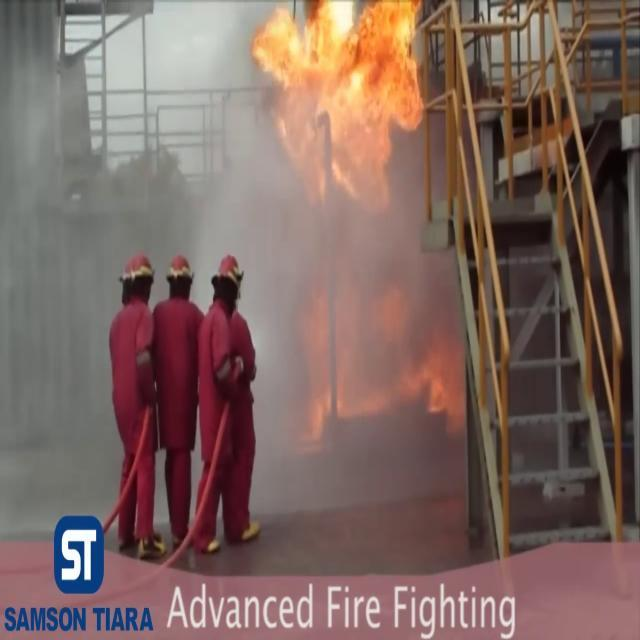Fire: (248, 0, 434, 168)
